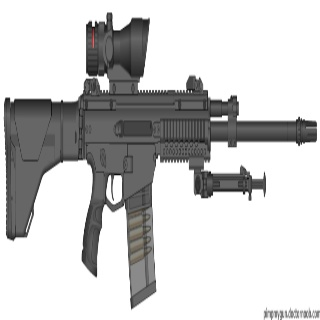rifle: (1, 13, 320, 311)
